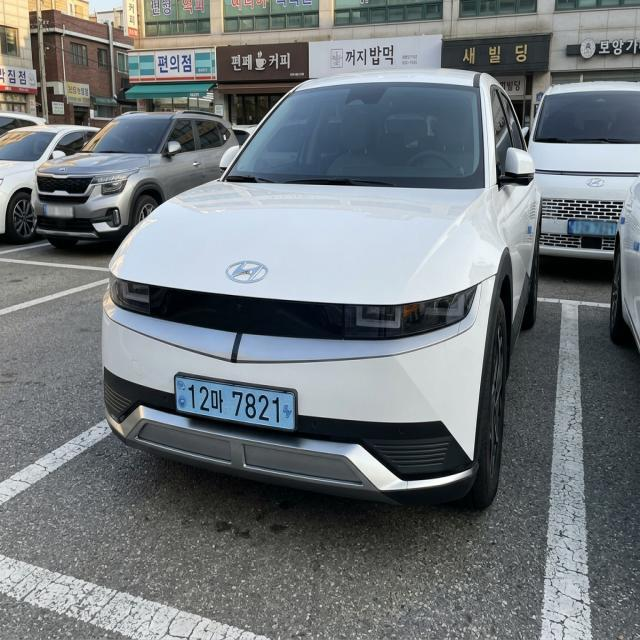car: (163, 362, 319, 445)
carev: (281, 390, 295, 435), (175, 373, 188, 417)
